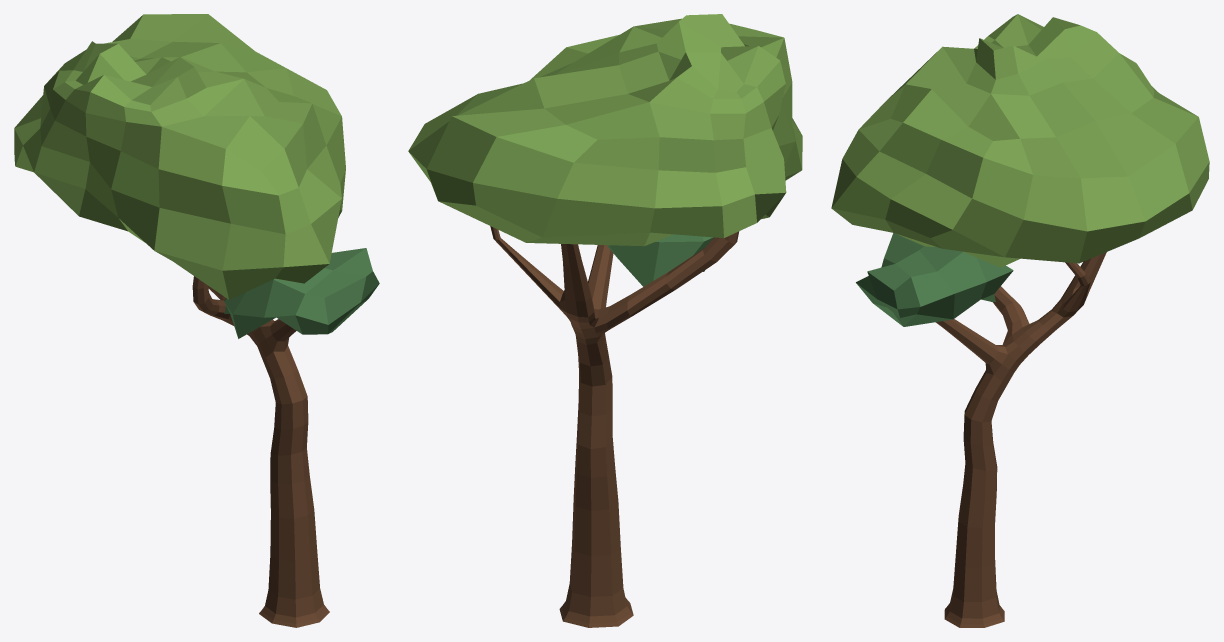
Rendered from feuillu_rond.glb.
3 renders of one model, left to right at view 1: azimuth 30°, elevation 25°; view 2: azimuth 150°, elevation 25°; view 3: azimuth 270°, elevation 25°, orthographic. The views are drawn at different scales.
Parts seen in each view (by area): view 1: feuillu_rond; view 2: feuillu_rond; view 3: feuillu_rond.
Part boxes in pixels (x1,y1,x2,y2): feuillu_rond: (14,14,379,627); feuillu_rond: (408,14,802,627); feuillu_rond: (831,14,1209,627).
Size of the model in its own units: 4.25 by 7.5 by 4.85.
